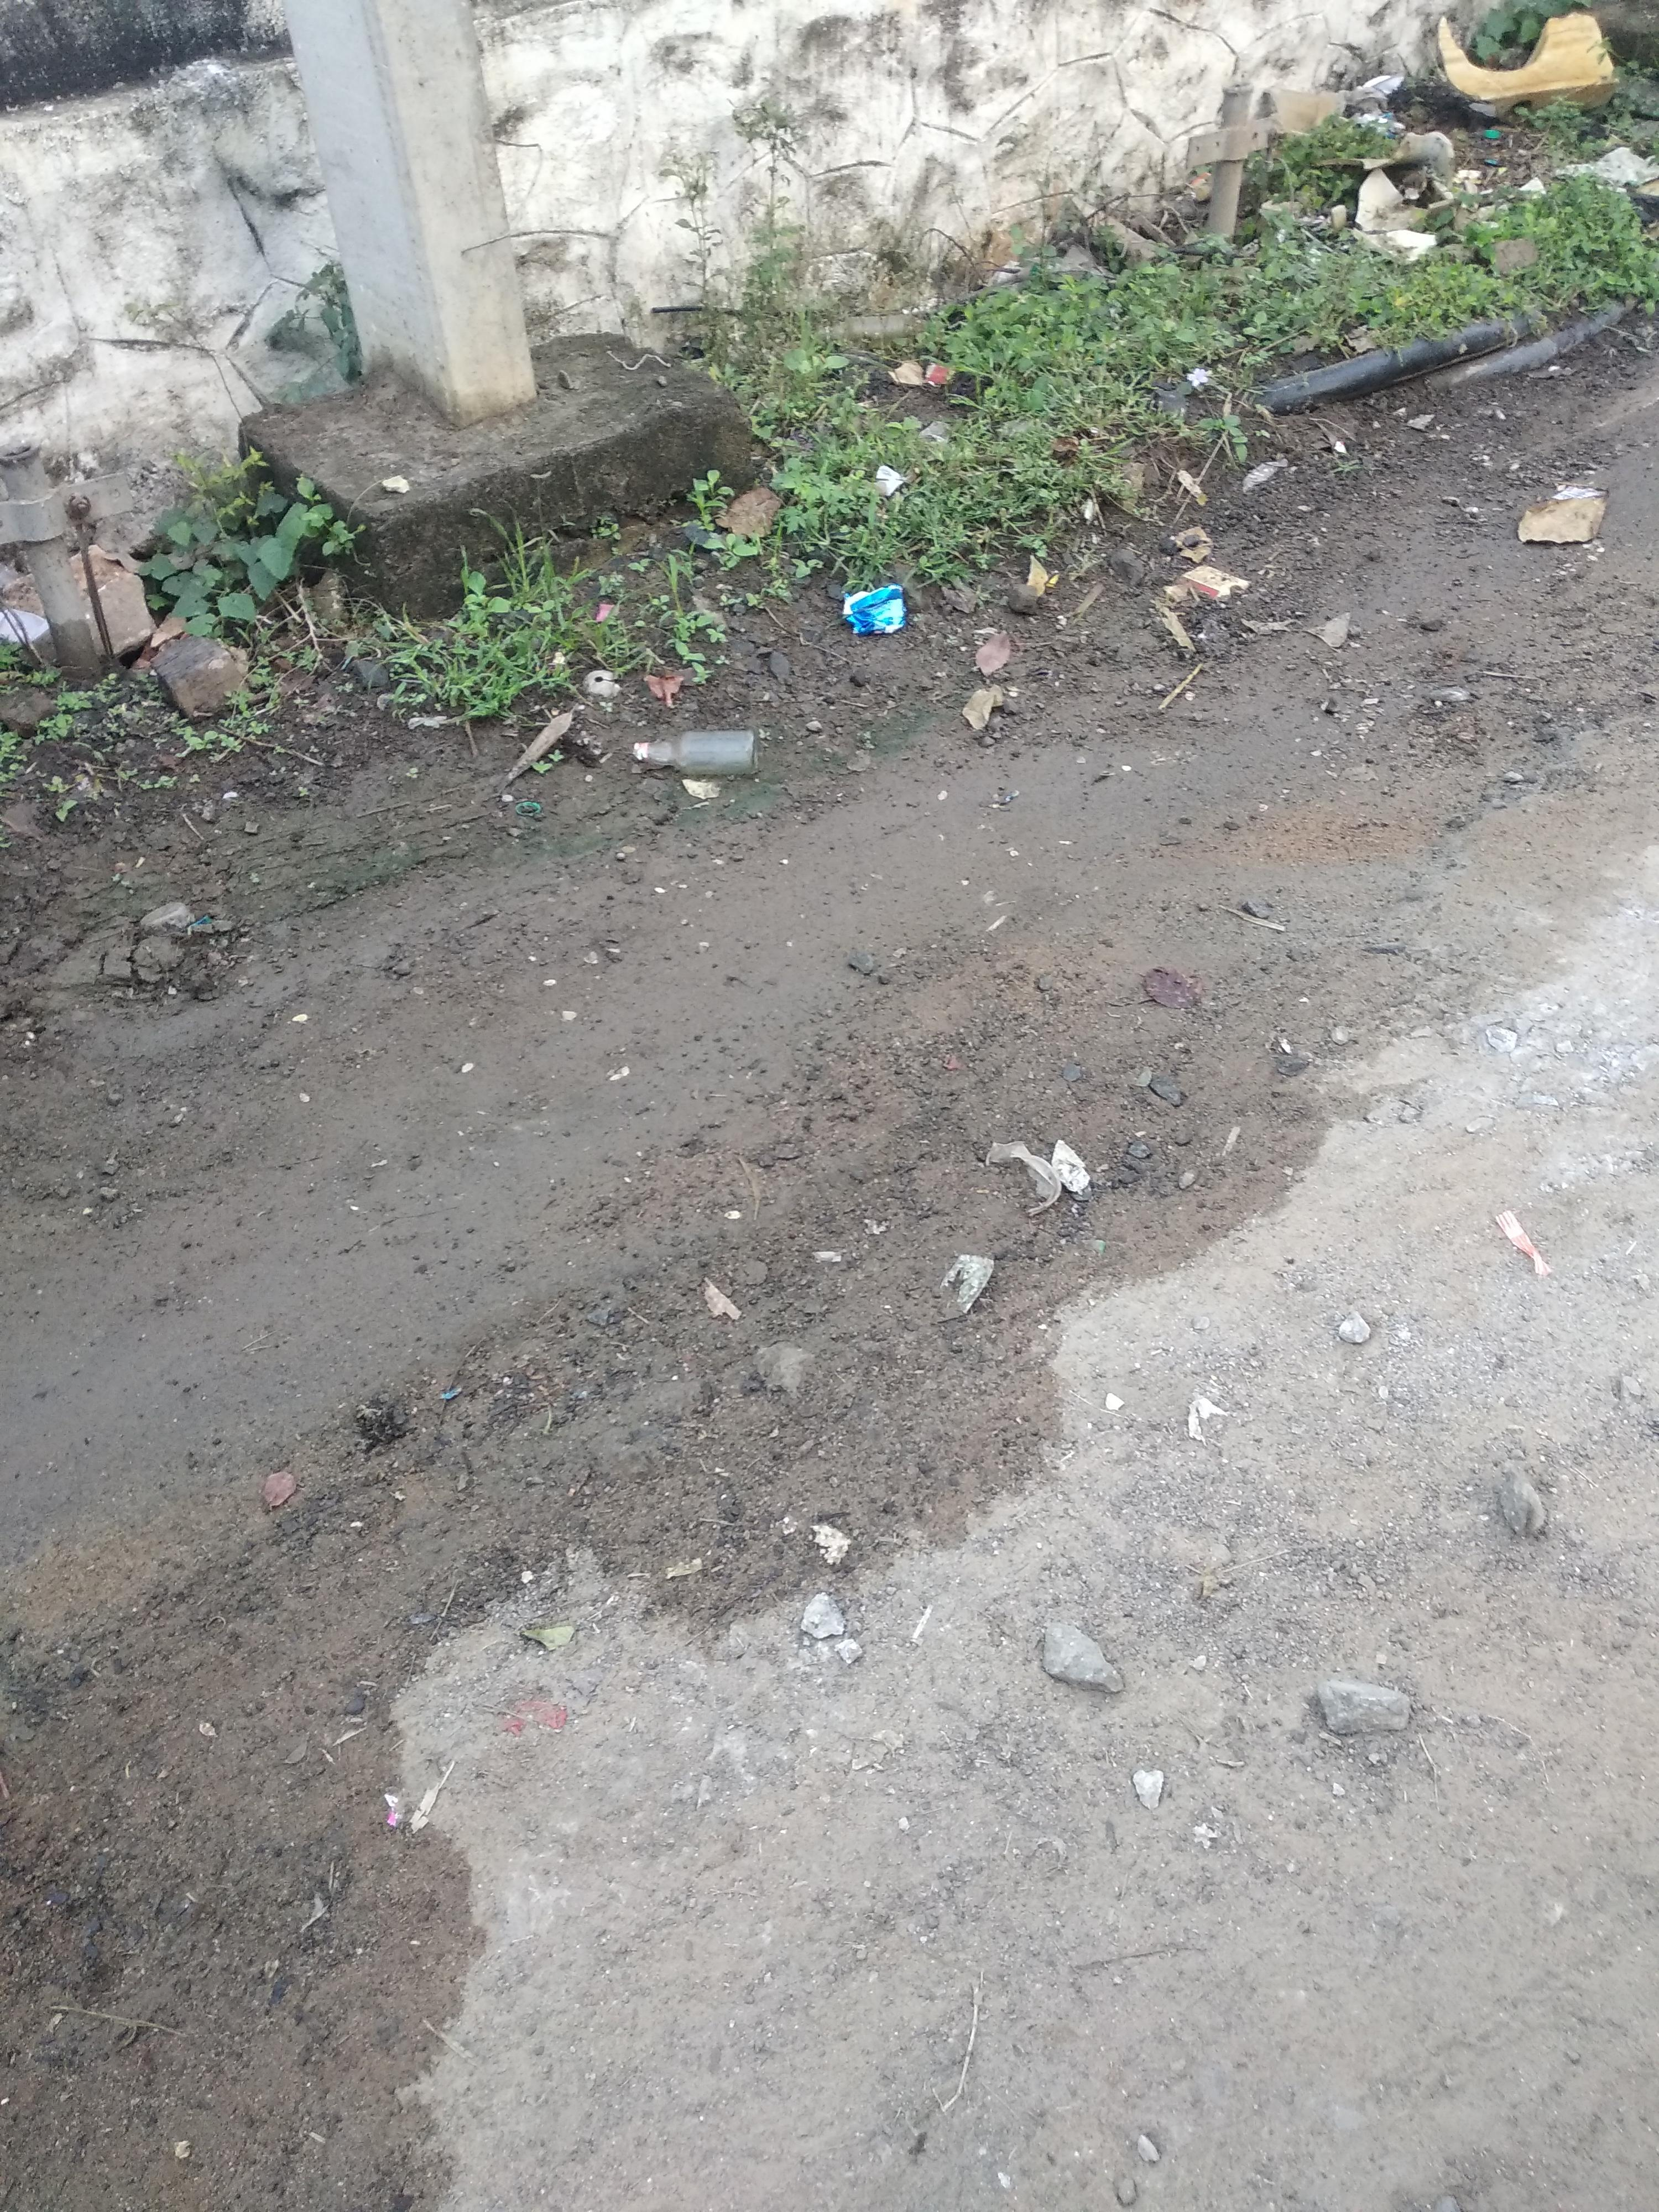organic: (1297, 7, 1659, 294)
